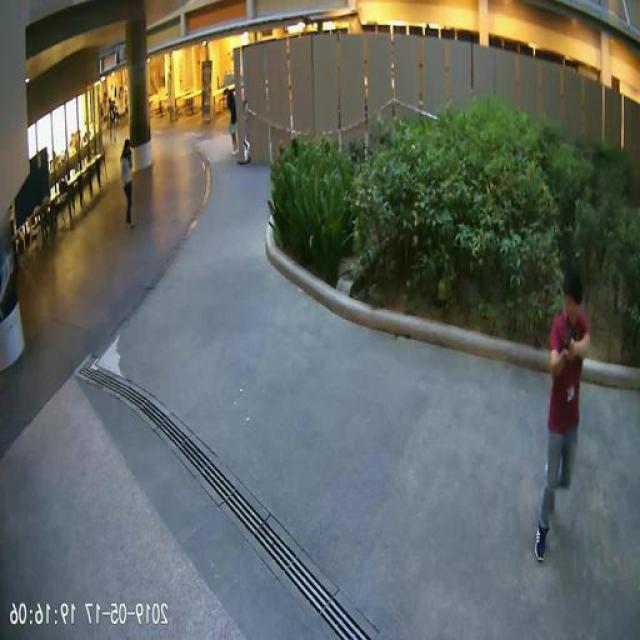weapon: (561, 330, 575, 354)
